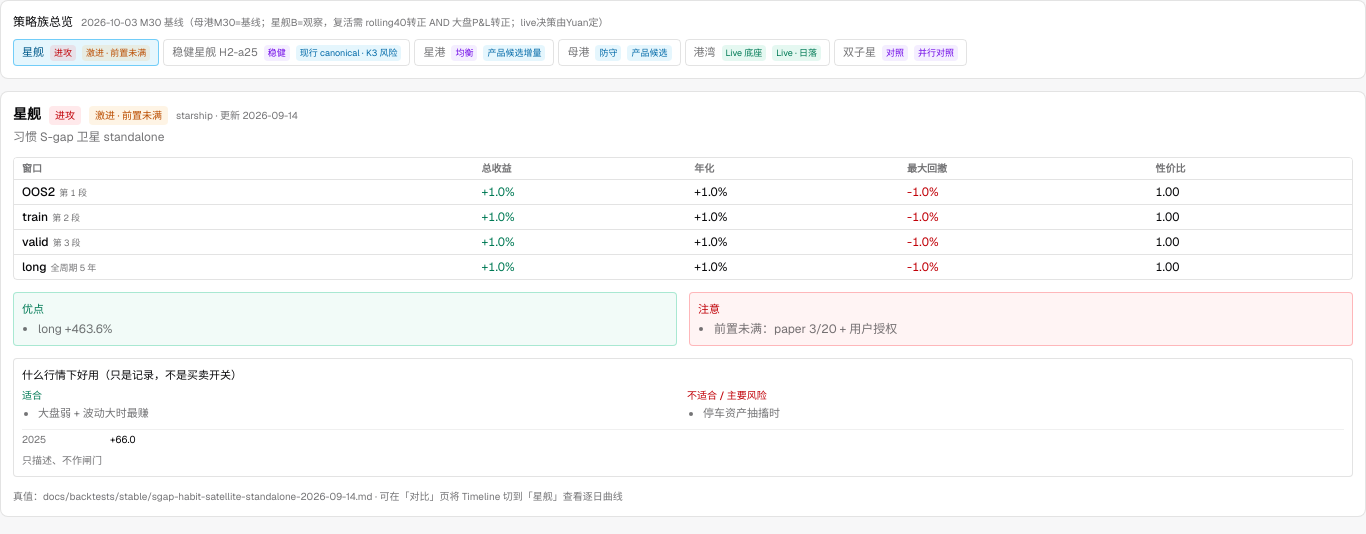
Scenario: StrategyCatalogPanel › renders the three tiers plus sunset baseline and the parallel twin-star entry
Expected: the text "策略族总览" is shown, [13, 14, 73, 30]
Expected: the button "星舰" is shown, [13, 39, 159, 66]
// Parallel entry carries its own badge + a working Timeline hint.
Click the button "双子星": (901, 52) [834, 39, 967, 66]
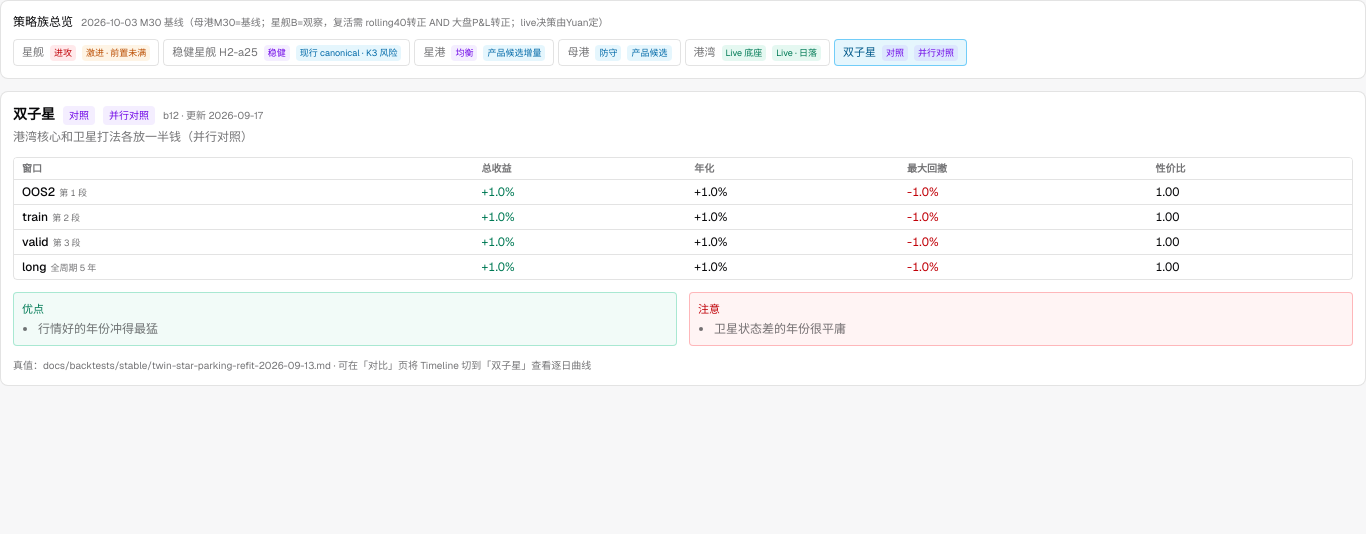
Expected: the 1st text "并行对照" is shown, [914, 45, 958, 61]
Now the text "可在「对比」页将 Timeline 切到「双子星」查看逐日曲线" is shown, box [331, 359, 591, 372]
// Sunset baseline still reachable with its Live badge.
Click the button "港湾": (757, 52) [684, 39, 830, 66]
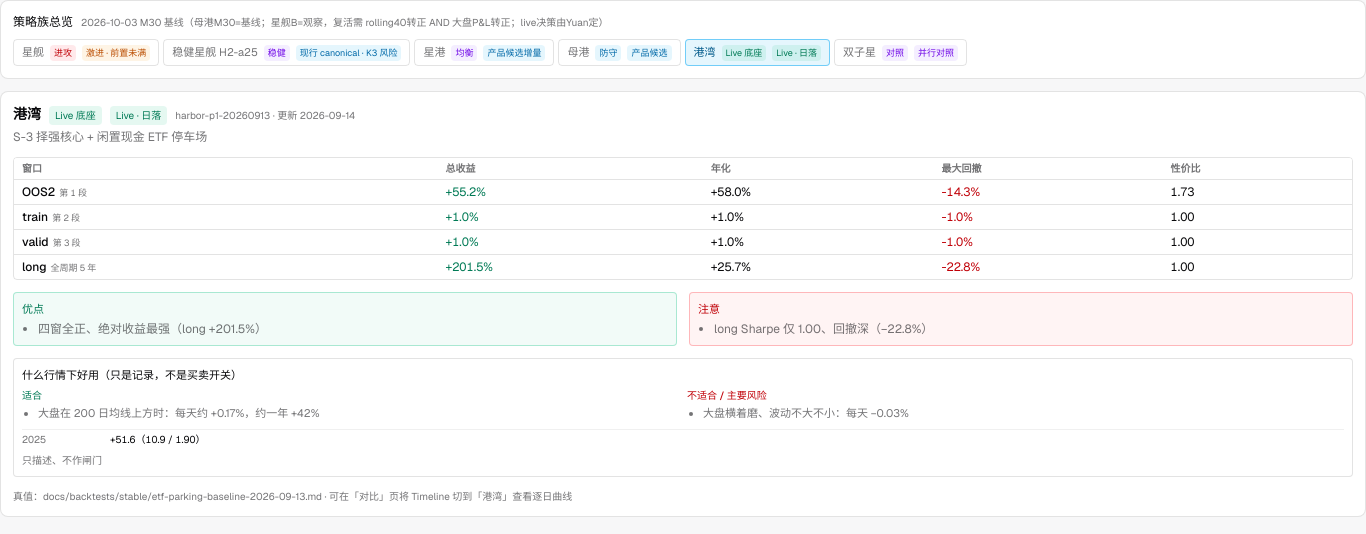
Now the text "+55.2%" is shown, box [446, 179, 711, 204]
Now the text "1.73" is shown, box [1170, 179, 1352, 204]
Now the list item "四窗全正、绝对收益最强（long +201.5%）" is shown, box [38, 321, 267, 337]
